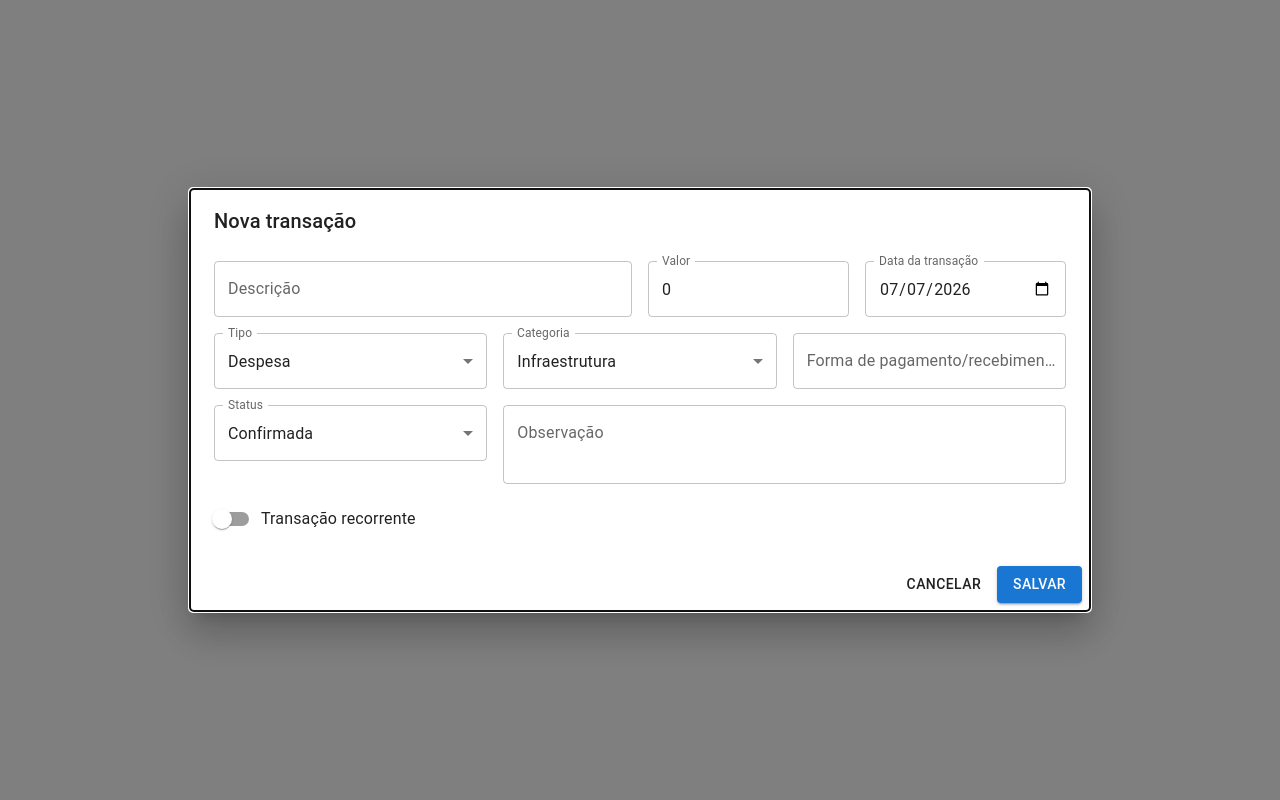
Test: TransactionFormDialog › shows validation feedback and does not submit invalid payload
The image size is (1280, 800).
Clear the number field labelled "Valor": (748, 289) x1=648 y1=261 x2=849 y2=317
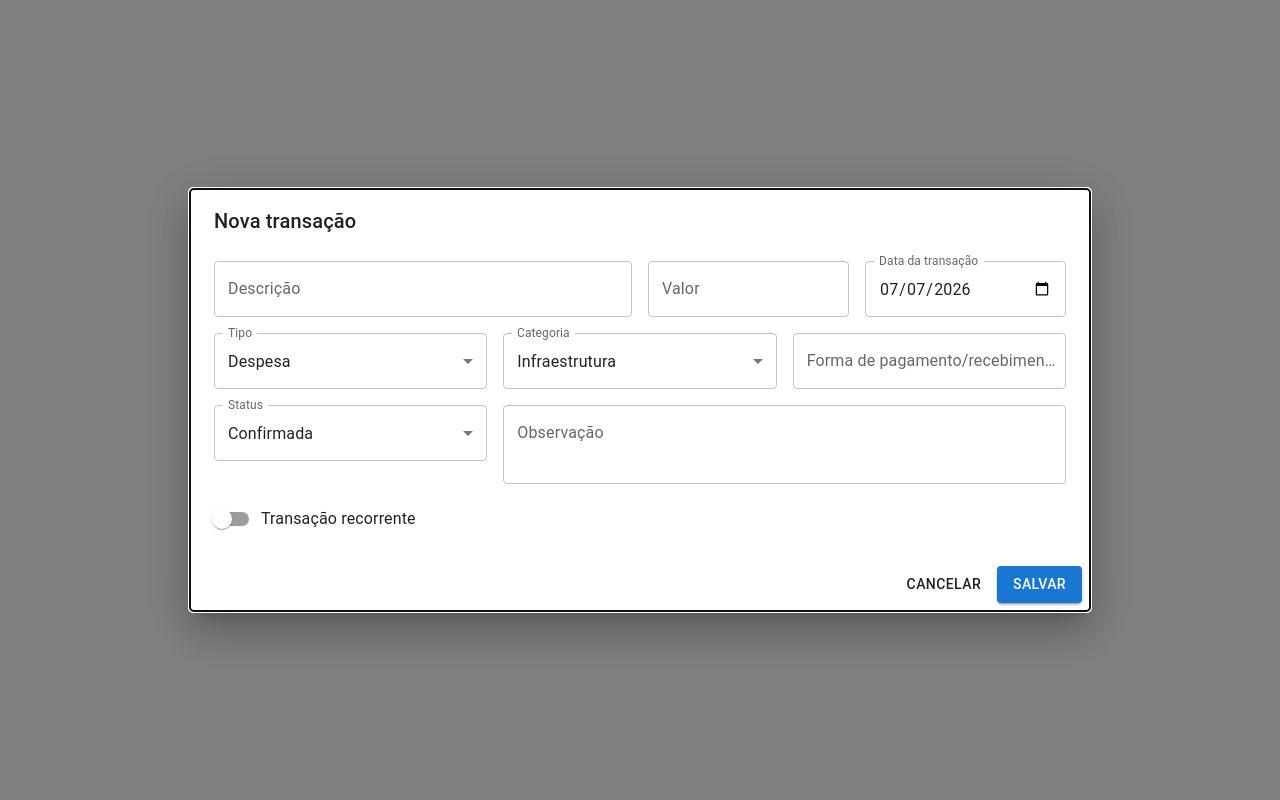
Click the button "Salvar": (1040, 585) x1=997 y1=566 x2=1082 y2=603
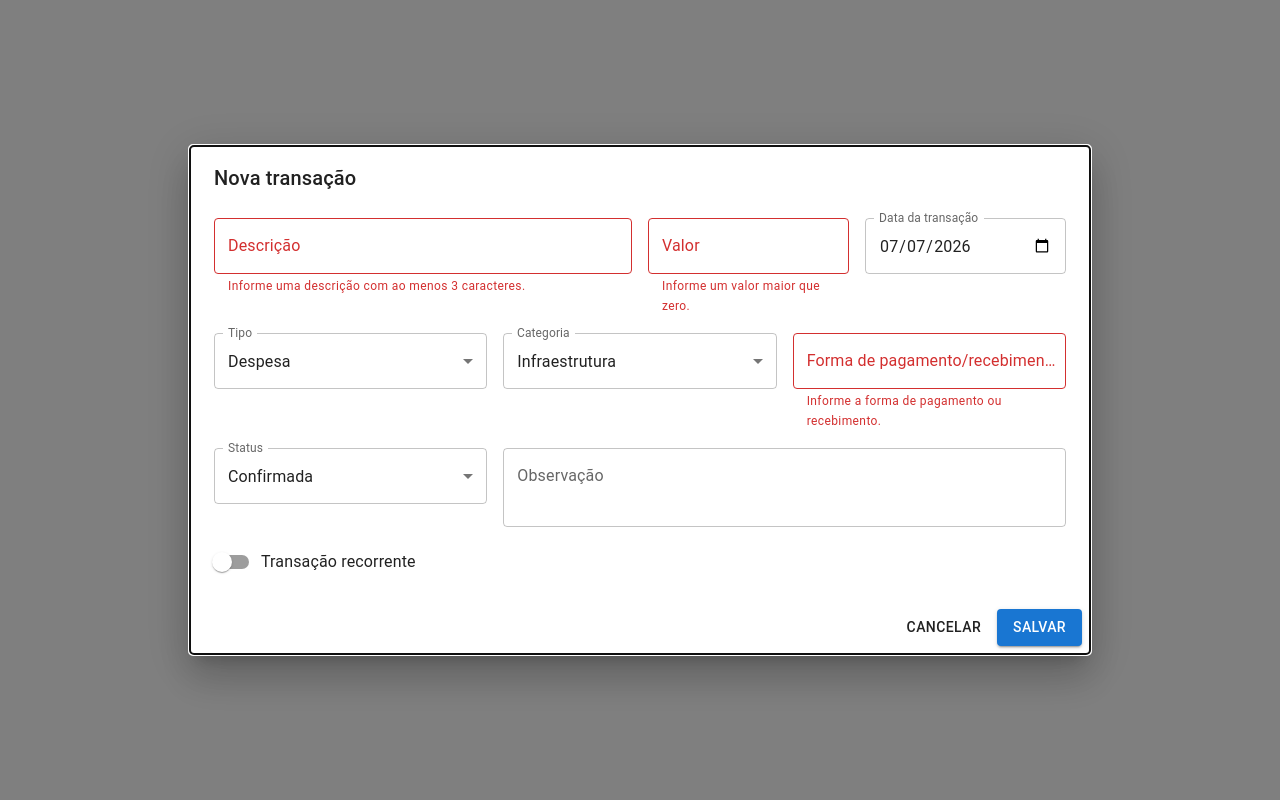
Expected: the text "Informe uma descrição com ao menos 3 caracteres." is shown, x1=228 y1=279 x2=526 y2=293
Expected: the text "Informe um valor maior que zero." is shown, x1=662 y1=277 x2=835 y2=317
Expected: the text "Informe a forma de pagamento ou recebimento." is shown, x1=807 y1=394 x2=1002 y2=428
